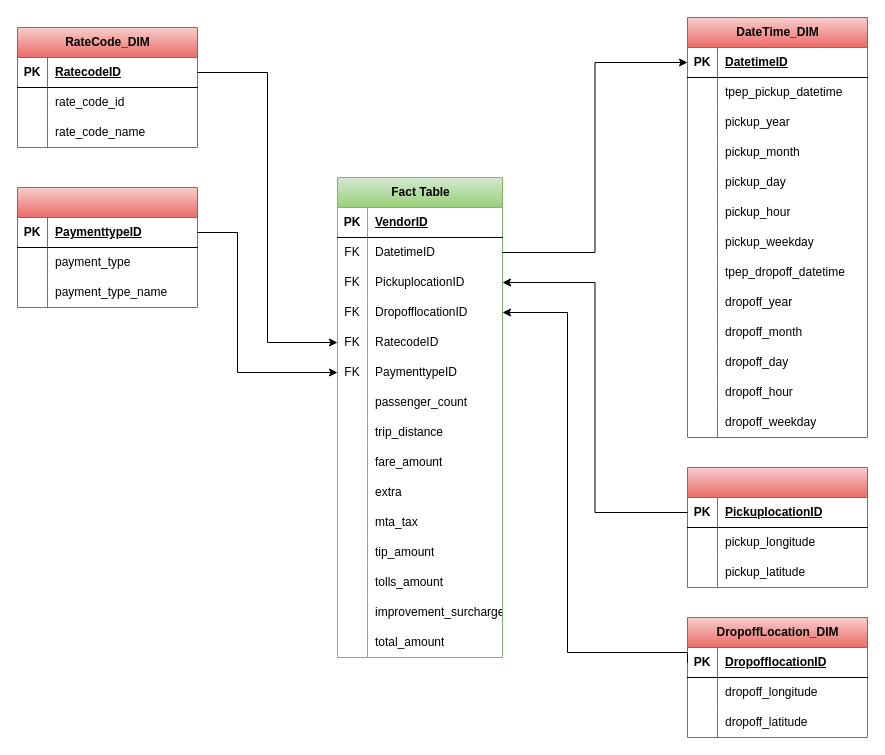
The diagram is 885 pixels wide and 755 high, and some of its shapes have lost their labels. Here are the shapes that lost their labels. From the top down, the box of each, then its label:
(16, 186, 198, 308): PaymentType_DIM
(686, 466, 868, 588): PickupLocation_DIM
